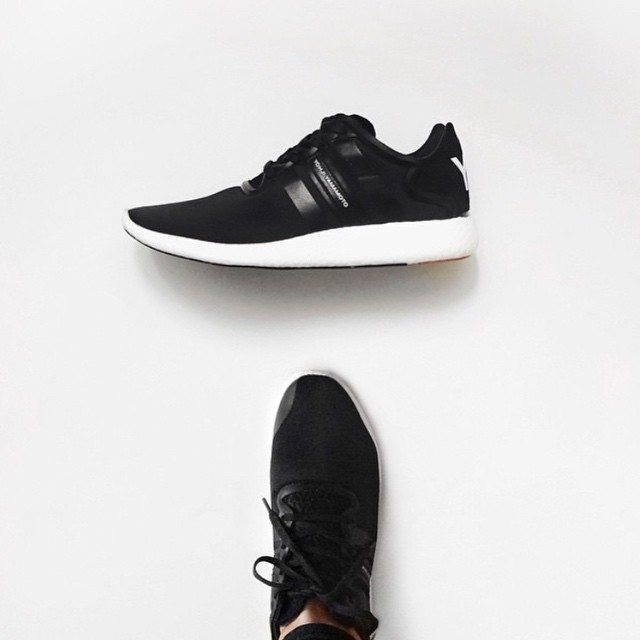sneaker: (251, 353, 396, 640)
